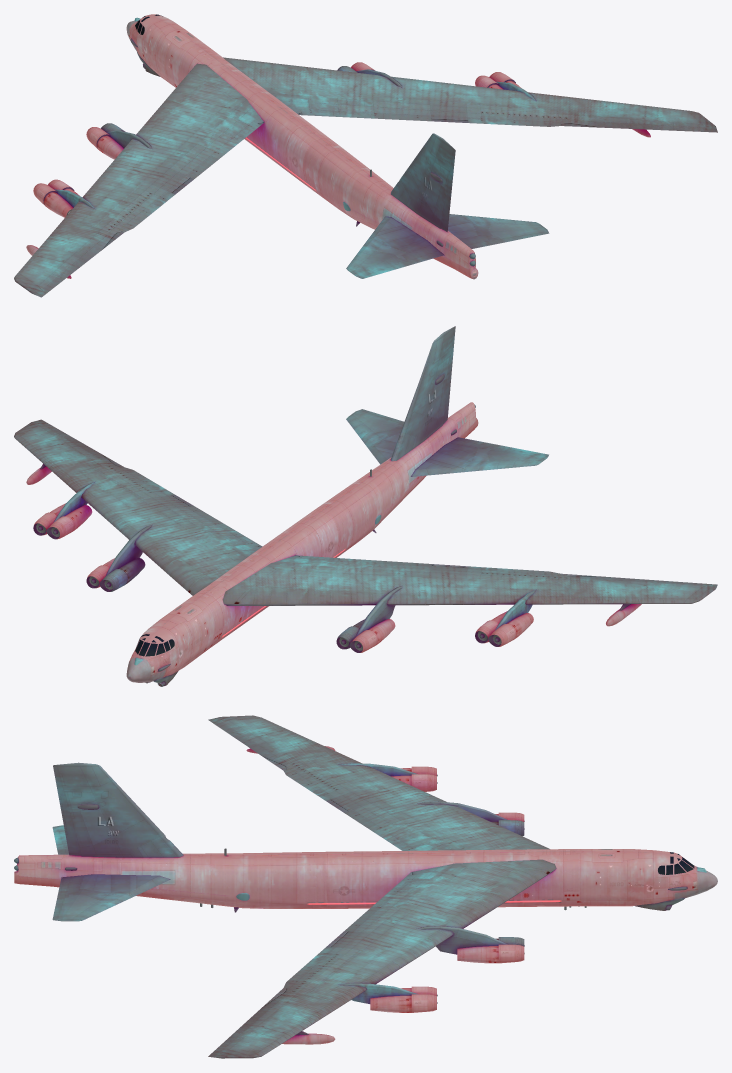
3 views of the same model, one above another, from view 1: azimuth 30°, elevation 25°; view 2: azimuth 150°, elevation 25°; view 3: azimuth 270°, elevation 25° (orthographic). The views are drawn at different scales.
Parts seen in each view (by area): view 1: B-52H_LOD0_default, B-52H_ElevatorL01_default, B-52H_ElevatorR01_default, B-52H_BrakeL01_default, B-52H_BrakeR01_default, B-52H_FlapR01_default, B-52H_FlapL01_default, B-52H_AileronR01_default, B-52H_AileronL01_default, B-52H_RudderL01_default; view 2: B-52H_LOD0_default, B-52H_ElevatorL01_default, B-52H_ElevatorR01_default, B-52H_BrakeL01_default, B-52H_BrakeR01_default; view 3: B-52H_LOD0_default, B-52H_ElevatorR01_default, B-52H_BrakeR01_default, B-52H_BrakeL01_default, B-52H_RudderL01_default, B-52H_FlapL01_default, B-52H_FlapR01_default.
Part boxes in pixels (bbox=[...]): B-52H_LOD0_default: bbox=[14, 14, 717, 297]; B-52H_ElevatorL01_default: bbox=[346, 216, 444, 278]; B-52H_ElevatorR01_default: bbox=[448, 214, 549, 248]; B-52H_BrakeL01_default: bbox=[93, 188, 152, 232]; B-52H_BrakeR01_default: bbox=[480, 103, 570, 119]; B-52H_FlapR01_default: bbox=[301, 110, 431, 121]; B-52H_FlapL01_default: bbox=[186, 121, 260, 178]; B-52H_AileronR01_default: bbox=[468, 118, 560, 126]; B-52H_AileronL01_default: bbox=[120, 191, 174, 232]; B-52H_RudderL01_default: bbox=[440, 149, 455, 231]; B-52H_LOD0_default: bbox=[14, 326, 717, 686]; B-52H_ElevatorL01_default: bbox=[411, 437, 548, 476]; B-52H_ElevatorR01_default: bbox=[346, 409, 404, 464]; B-52H_BrakeL01_default: bbox=[480, 572, 570, 584]; B-52H_BrakeR01_default: bbox=[94, 465, 152, 495]; B-52H_LOD0_default: bbox=[14, 715, 717, 1058]; B-52H_ElevatorR01_default: bbox=[52, 874, 170, 921]; B-52H_BrakeR01_default: bbox=[289, 954, 353, 995]; B-52H_BrakeL01_default: bbox=[289, 758, 354, 790]; B-52H_RudderL01_default: bbox=[53, 765, 81, 855]; B-52H_FlapL01_default: bbox=[344, 810, 414, 850]; B-52H_FlapR01_default: bbox=[344, 875, 416, 931].
Size of the model in its own units: 55.96 by 11.23 by 48.74.
4 materials, 4 textured.
